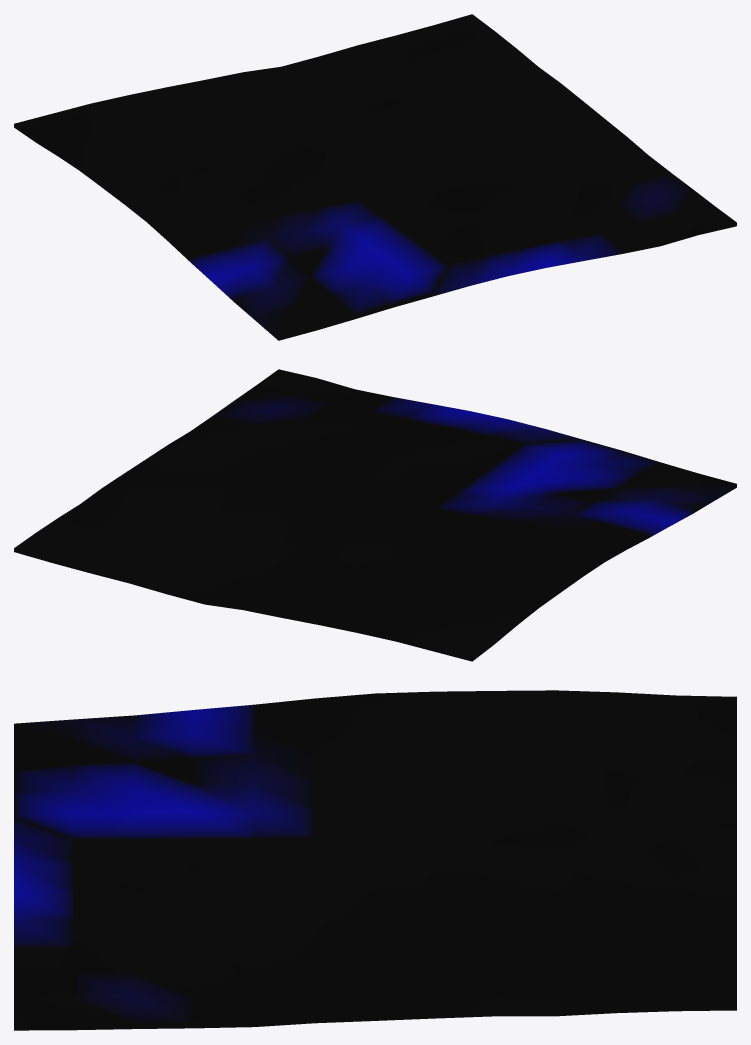
File: coast_18_5.glb
The picture shows the model from 3 angles, top to bottom: view 1: azimuth 30°, elevation 25°; view 2: azimuth 150°, elevation 25°; view 3: azimuth 270°, elevation 25°; orthographic projection. The views are drawn at different scales.
Parts seen in each view (by area): view 1: terrain; view 2: terrain; view 3: terrain.
Part boxes in pixels (<box>): terrain: <box>14,14,736,340</box>; terrain: <box>14,369,736,661</box>; terrain: <box>14,690,736,1030</box>.
Size of the model in its own units: 192 by 11.24 by 192.
